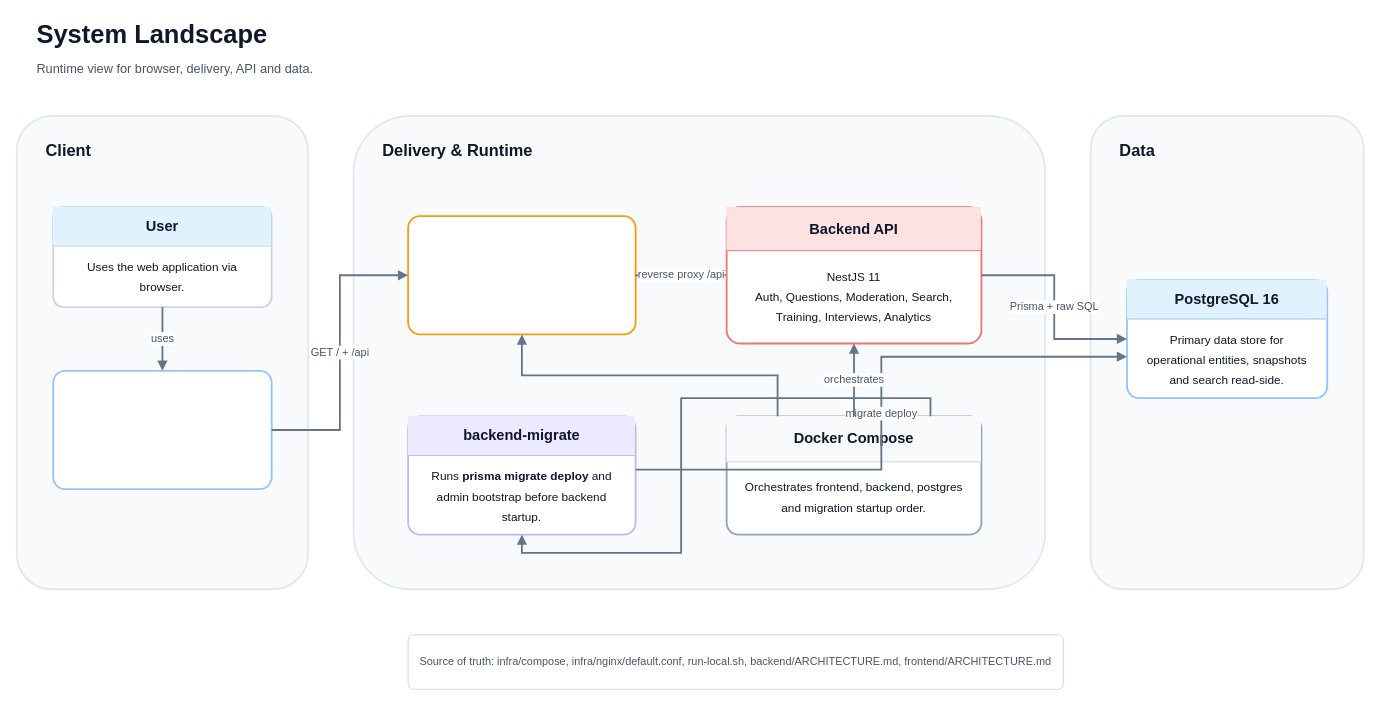
Some shapes in this 1380 by 705 pixel diagram are drawn without their labels. The shapes that lost their labels are listed below. From the top down, each one's centre as x and y in pixels, then its label:
At [521,275]: "nginx Serves static frontend assets and proxies /api to backend.".
At [162,429]: "Frontend SPA Vue 3 + Vite + Vuetify + Vue Router + SDK".
